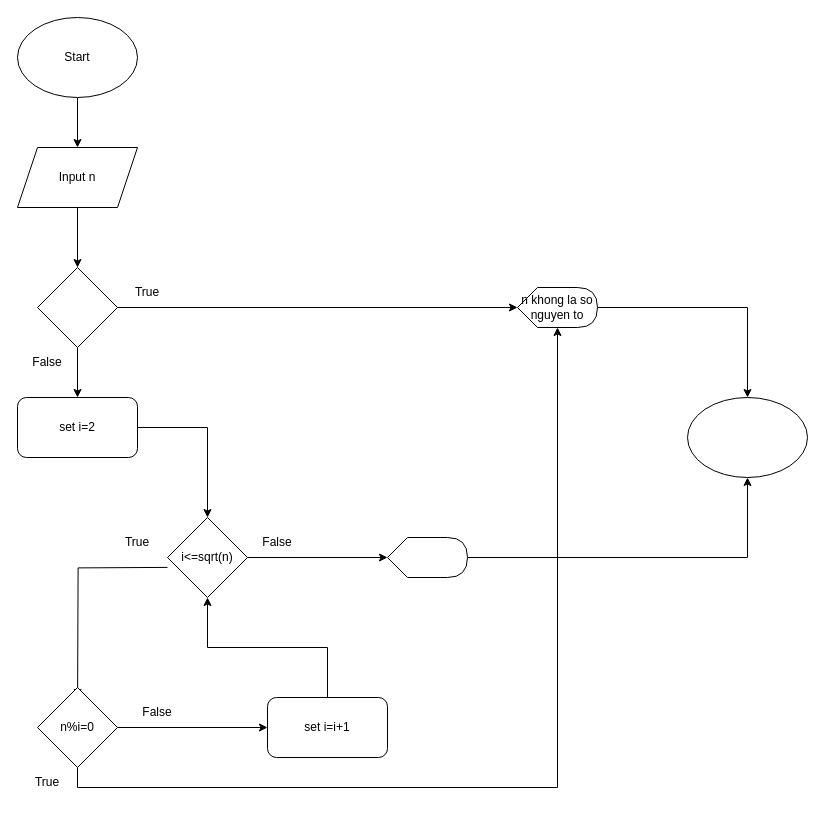
The diagram is 825 pixels wide and 815 high, and some of its shapes have lost their labels. The box of each missing label's shape, as (x1, y1, x2, y2) in pixels:
End: (686, 396, 808, 478)
n la so nguyen to: (386, 536, 468, 578)
n<2: (36, 266, 118, 348)
